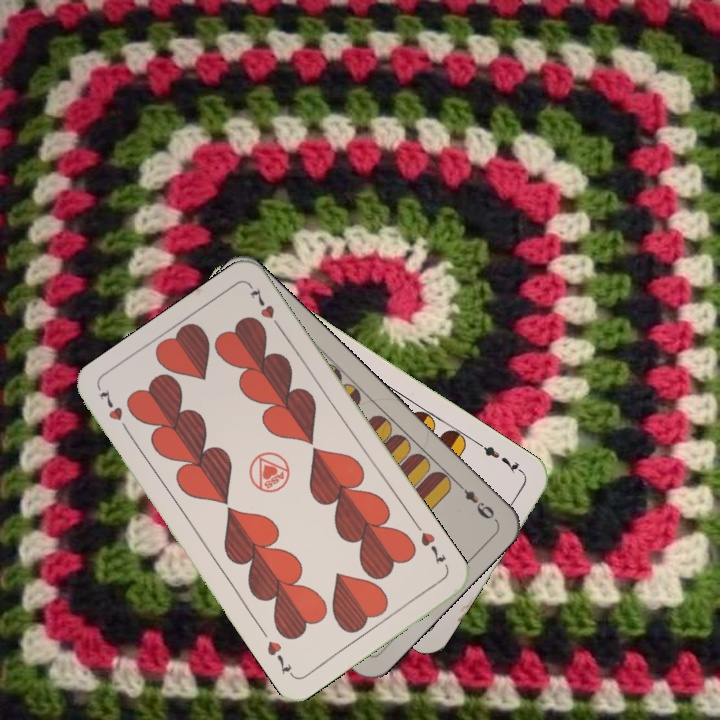E7: (474, 438, 527, 477)
E9: (452, 477, 499, 523)
H7: (95, 386, 133, 438), (416, 528, 448, 568)
